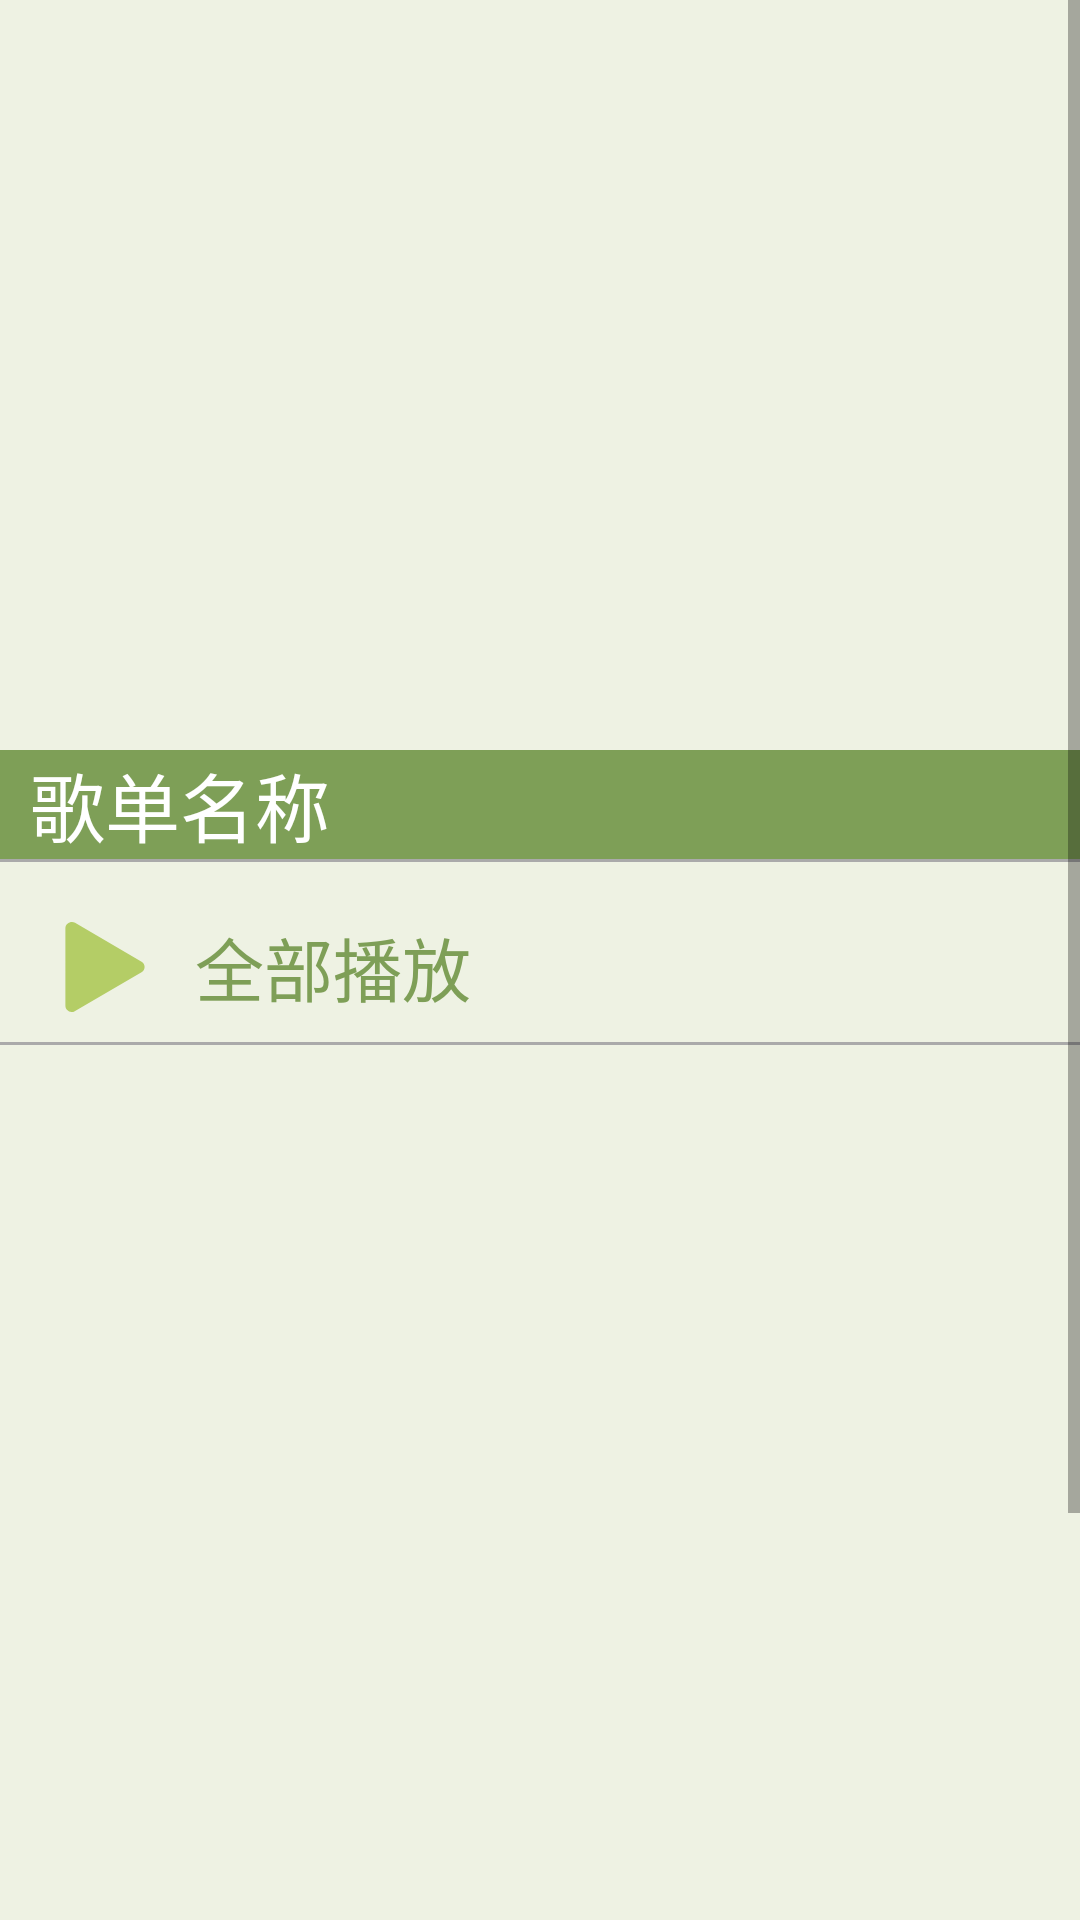

Where icons sit on this 1080 × 1920 app screen, as [x1,y1,x2,y2]:
play: [65,922,145,1012]
